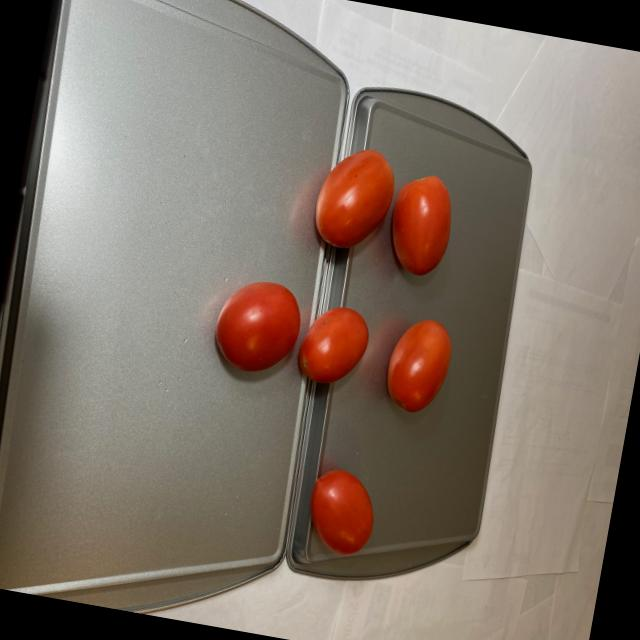tomato: (178, 130, 484, 570)
